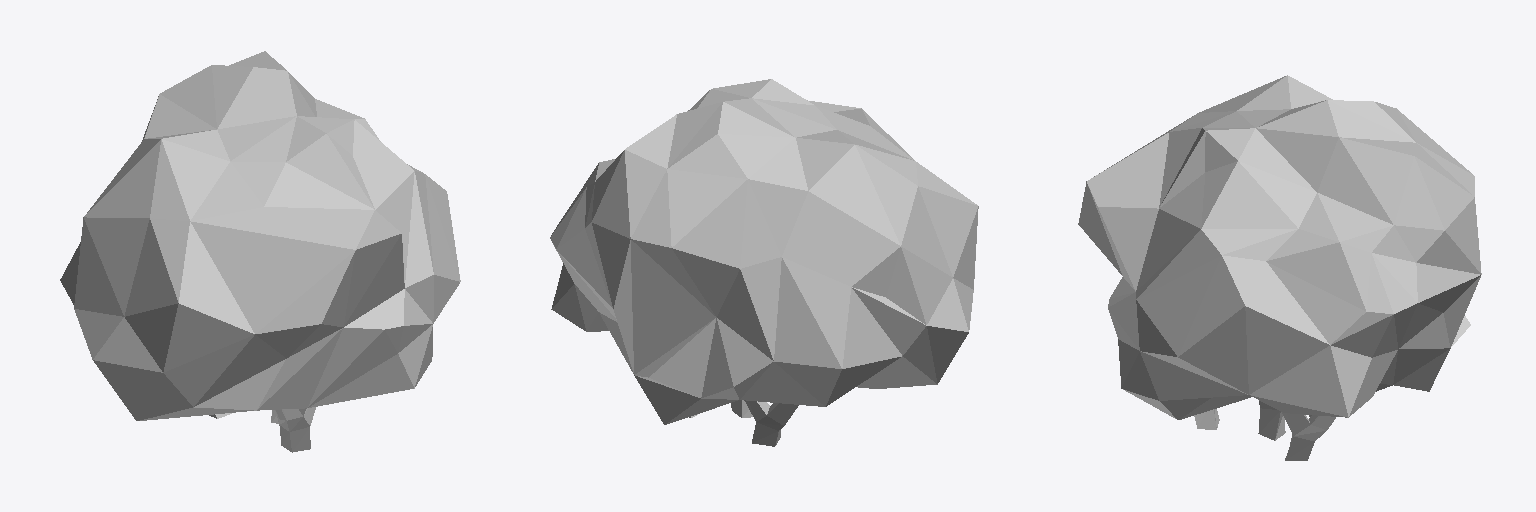
Rendered from Bush1.obj.
3 renders of one model, left to right at view 1: azimuth 30°, elevation 25°; view 2: azimuth 150°, elevation 25°; view 3: azimuth 270°, elevation 25°, orthographic.
Parts seen in each view (by area): view 1: Bush_average_Plane.001; view 2: Bush_average_Plane.001; view 3: Bush_average_Plane.001.
Boxes of the visible parts, x1,y1,x2,y2 form: Bush_average_Plane.001: [60, 51, 460, 452]; Bush_average_Plane.001: [550, 79, 978, 446]; Bush_average_Plane.001: [1078, 75, 1481, 460].
Size of the model in its own units: 4.68 by 4.08 by 4.48.